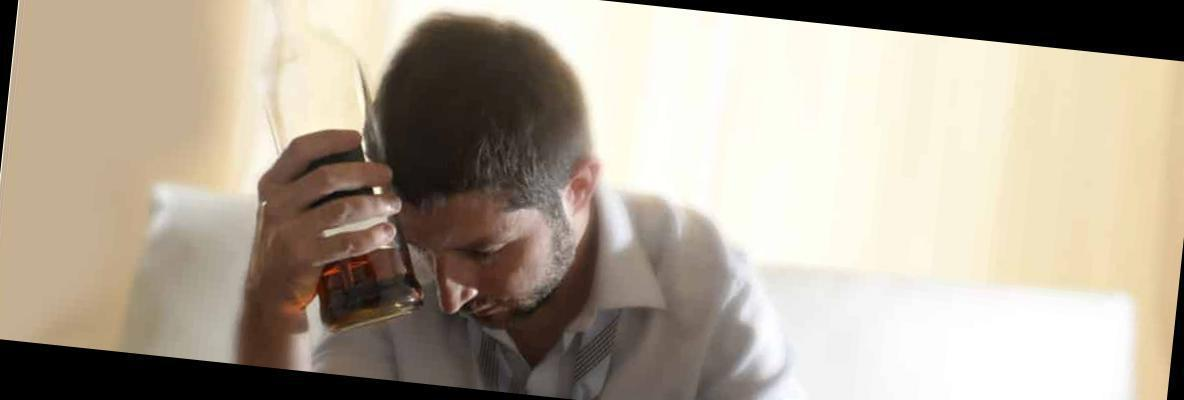Drunk: (392, 175, 578, 324)
